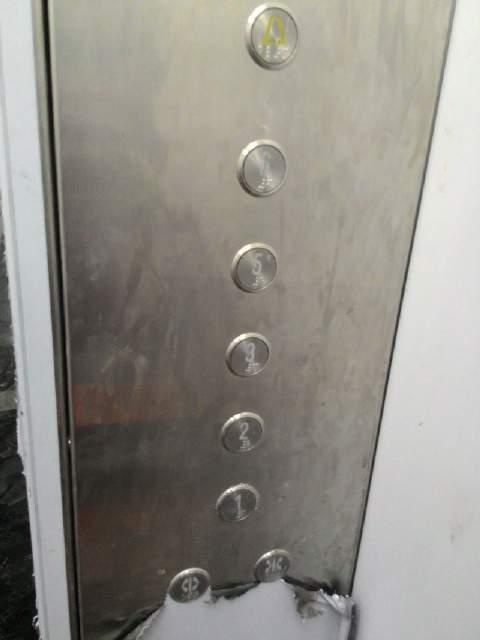1: (212, 481, 262, 526)
2: (218, 409, 267, 457)
3: (222, 329, 273, 381)
5: (228, 240, 281, 296)
6: (234, 138, 290, 200)
alarm: (242, 2, 304, 74)
close: (252, 547, 292, 584)
open: (166, 566, 213, 605)
